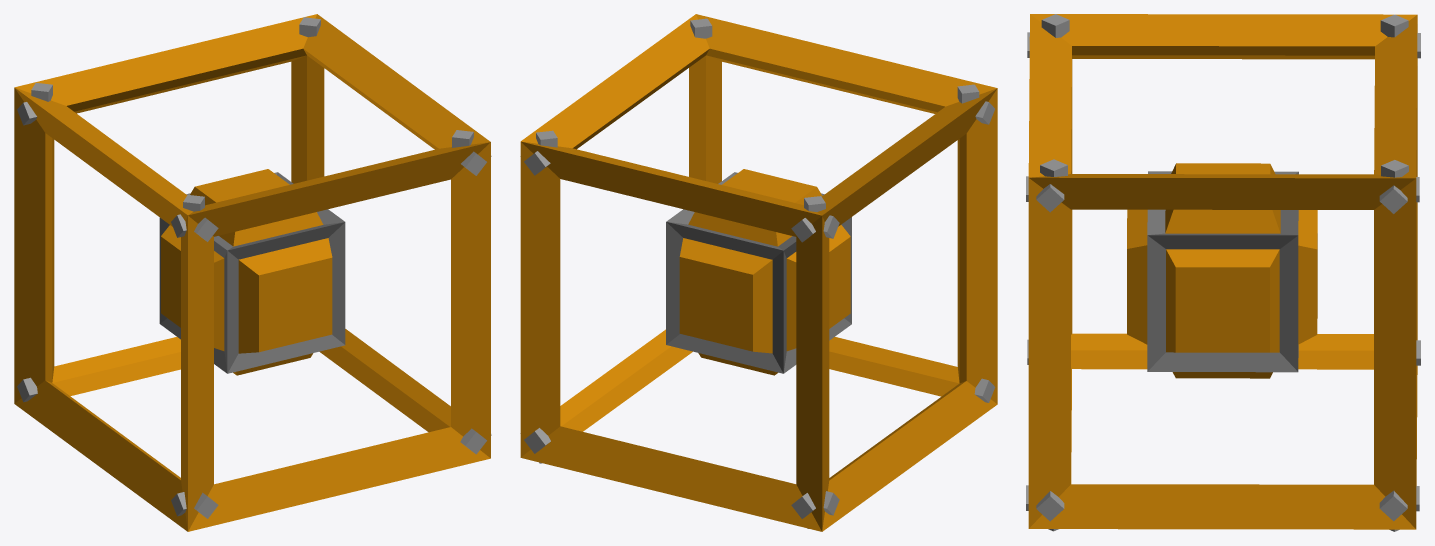
The model's file is Item_Powerup_Fantasy_6.fbx.
The picture shows the model from 3 angles, left to right: view 1: azimuth 30°, elevation 25°; view 2: azimuth 150°, elevation 25°; view 3: azimuth 270°, elevation 25°; orthographic projection. The views are drawn at different scales.
Parts seen in each view (by area): view 1: Item Powerup Fantasy; view 2: Item Powerup Fantasy; view 3: Item Powerup Fantasy.
Part boxes in pixels (x1=…): Item Powerup Fantasy: x1=14, y1=14, x2=491, y2=531; Item Powerup Fantasy: x1=520, y1=14, x2=997, y2=531; Item Powerup Fantasy: x1=1026, y1=14, x2=1420, y2=531.
Size of the model in its own units: 243 by 244 by 243.
